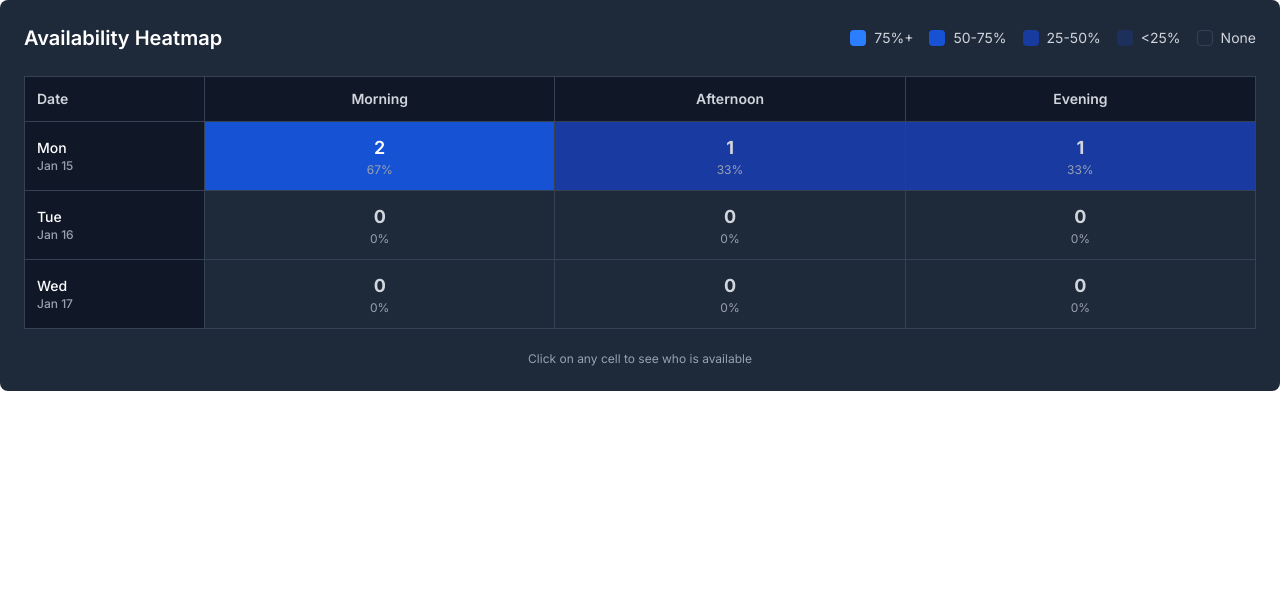
Test case: AvailabilityVisualization › Cell interaction › should close breakdown when cell is clicked again
// Click to open
Step 1. Click the cell "2 67%" → (380, 156), box [205,122,555,190]
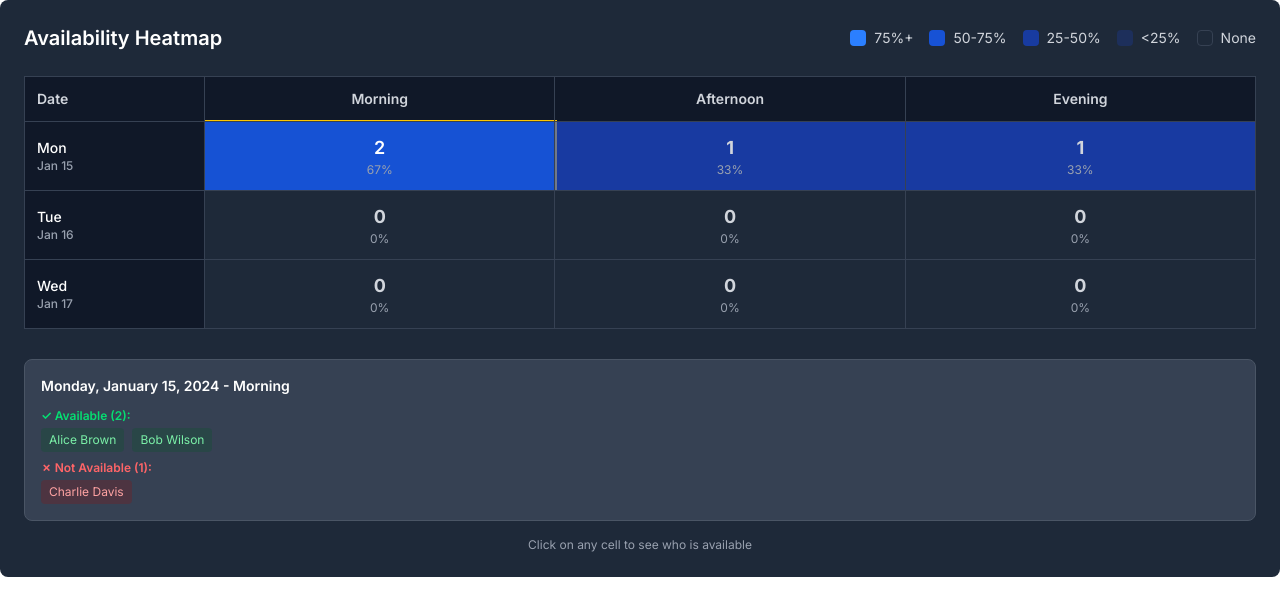
Result: the text "Alice Brown" is shown at [41,428,124,452]
Result: the text "Bob Wilson" is shown at [132,428,212,452]
// Click again to close - check that the detail panel header is gone
Step 2. Click the cell "2 67%" → (380, 156), box [205,122,555,190]
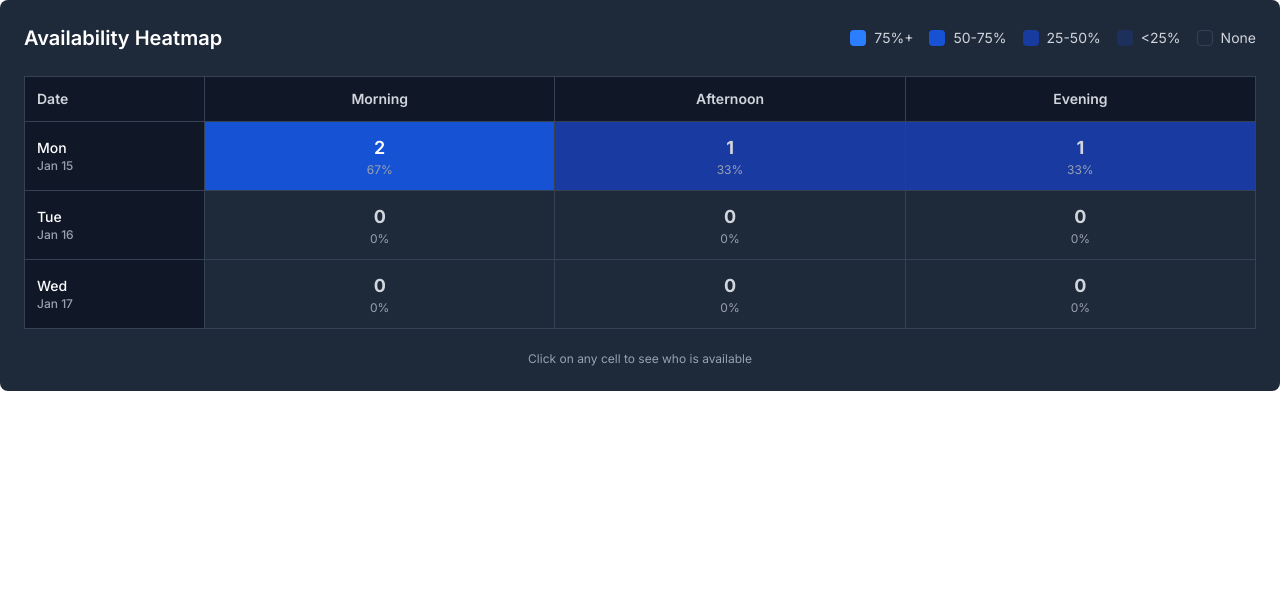
Result: the heading "Monday, January 15, 2024 - Morning" is gone
